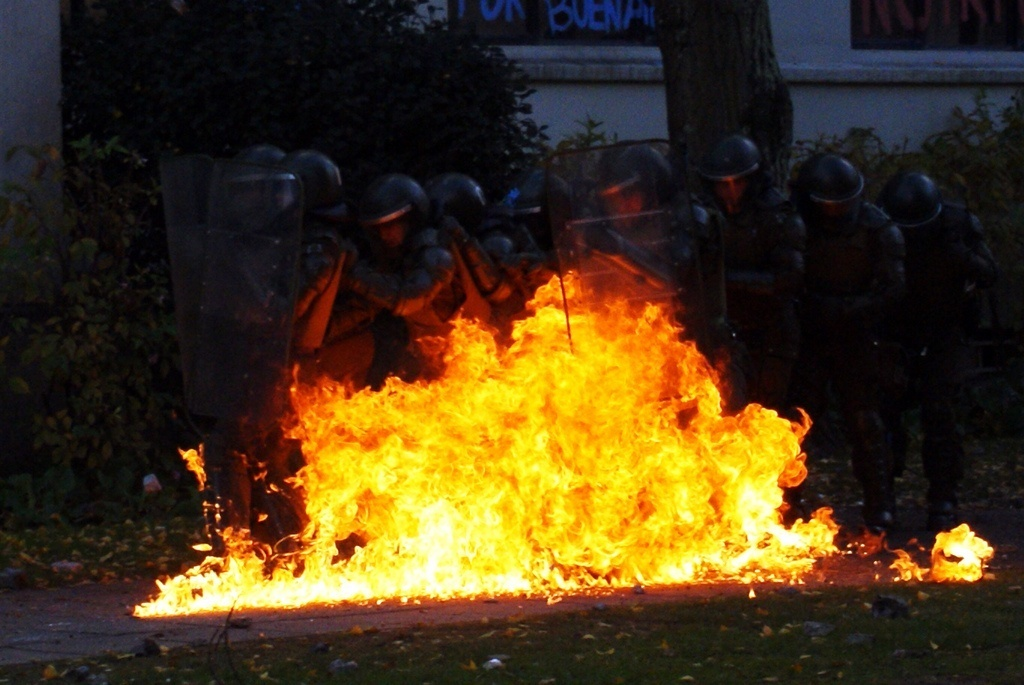fire: (243, 250, 862, 610)
